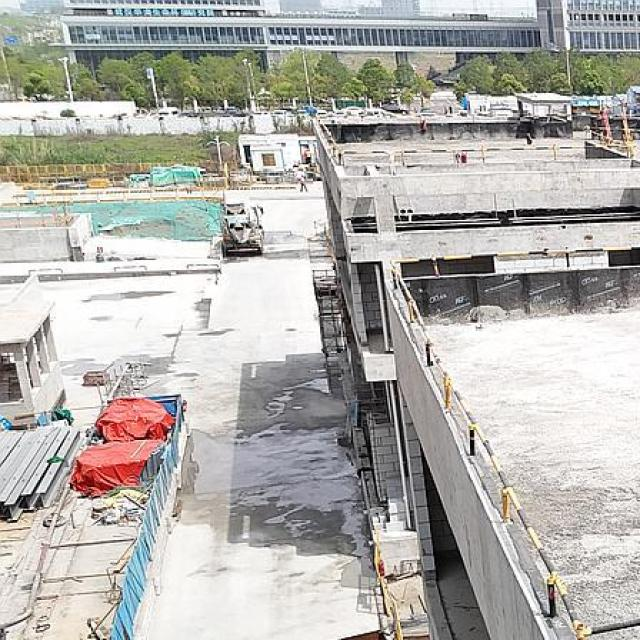Guardrail: (388, 245, 640, 640), (320, 122, 631, 167), (508, 210, 640, 223), (394, 217, 500, 227), (352, 222, 377, 229)
